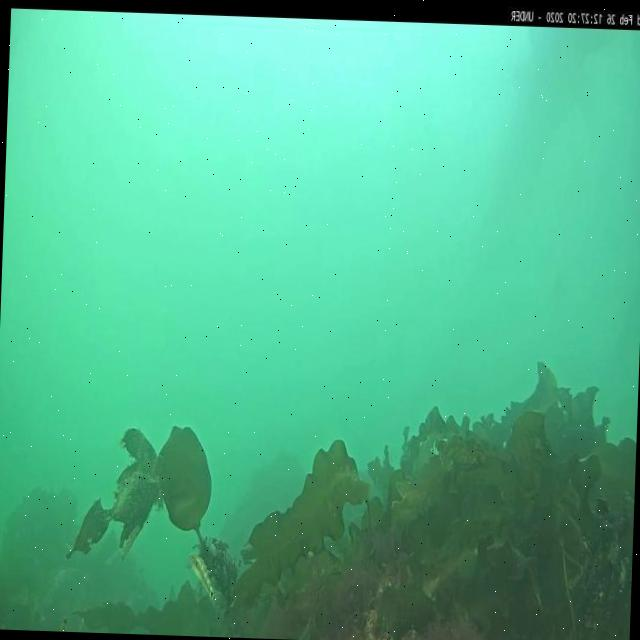fish: (187, 552, 216, 598)
